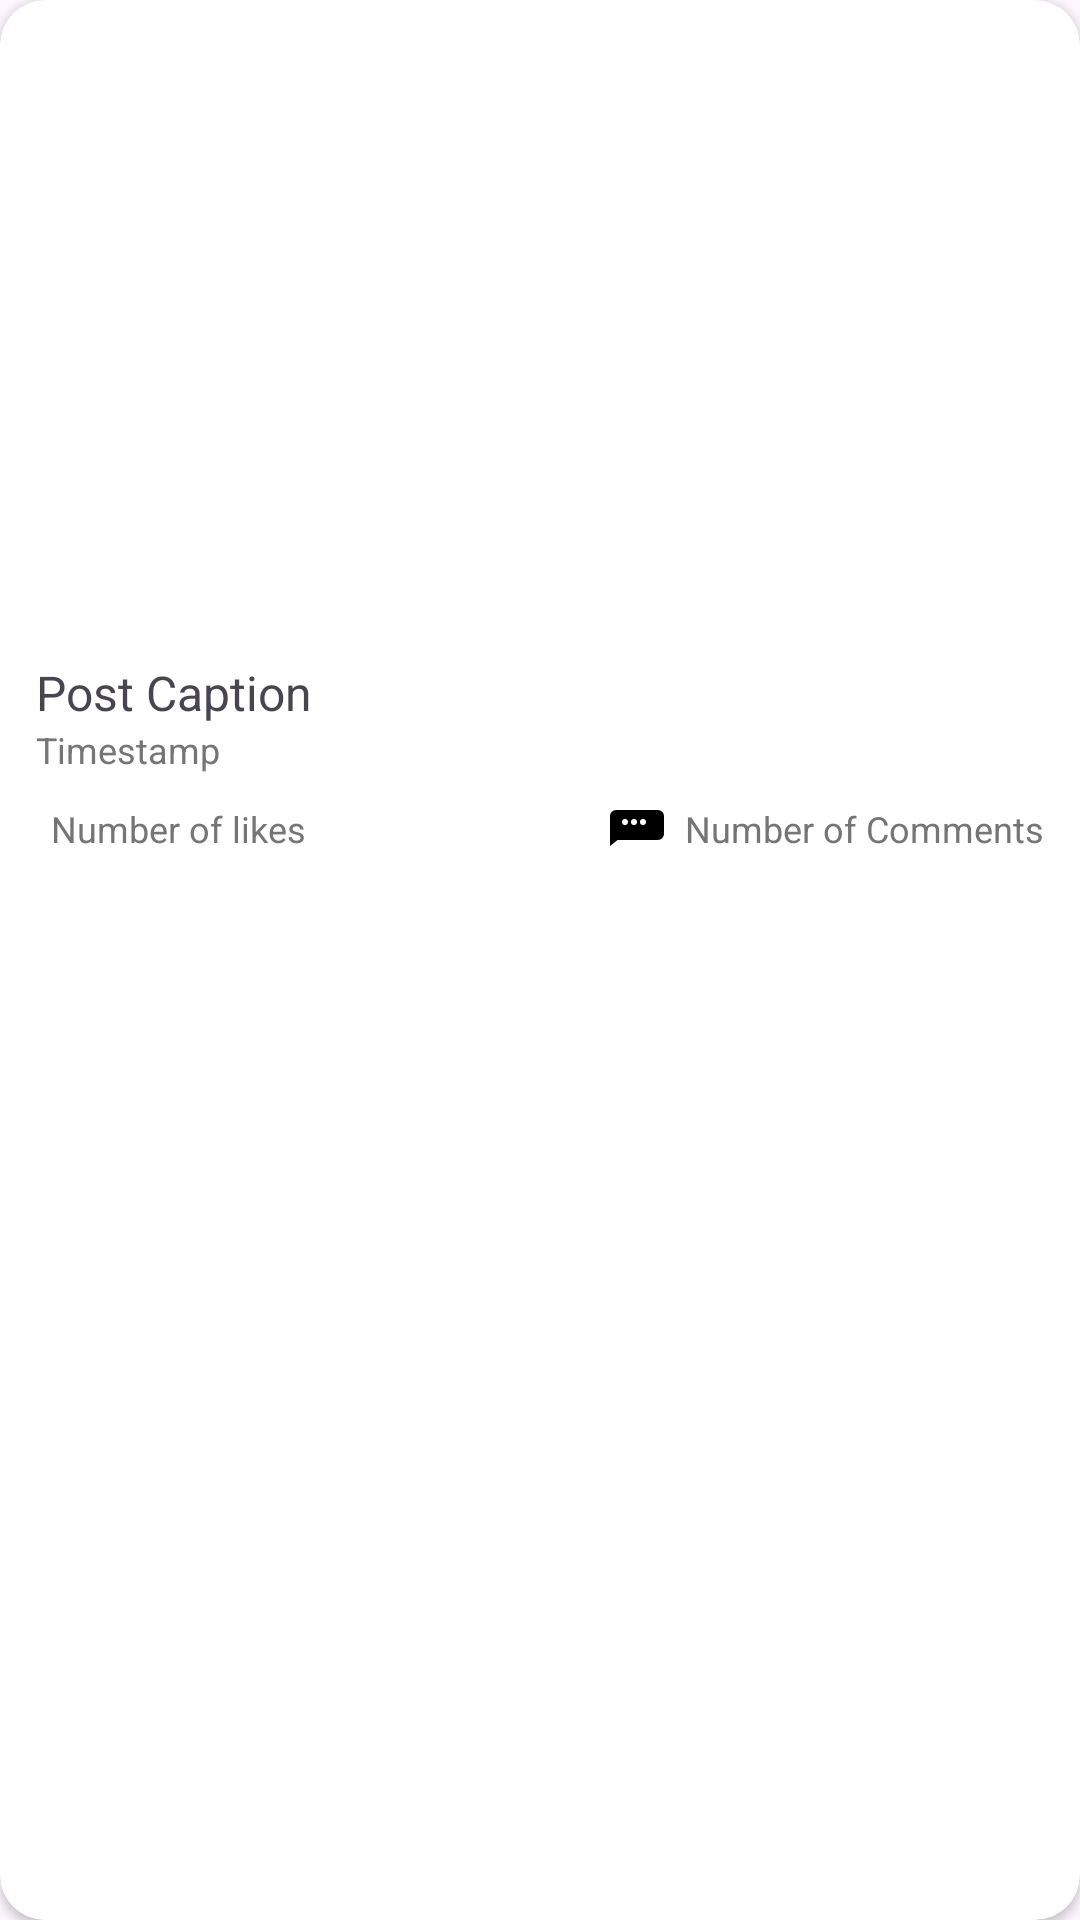

Where to tap for icons on this 1080px x 1920px app screen, as point (x, y):
Comment Button: point (637, 828)
